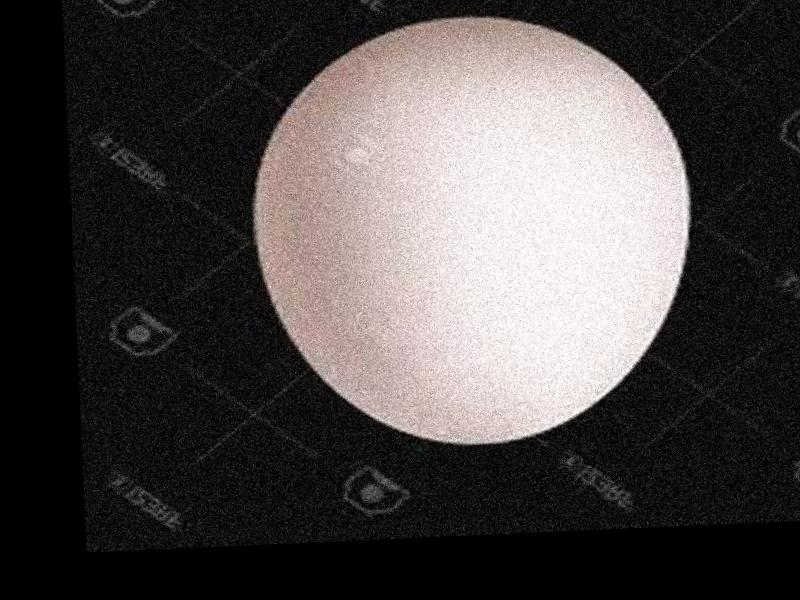Eggs: (252, 10, 697, 450)
